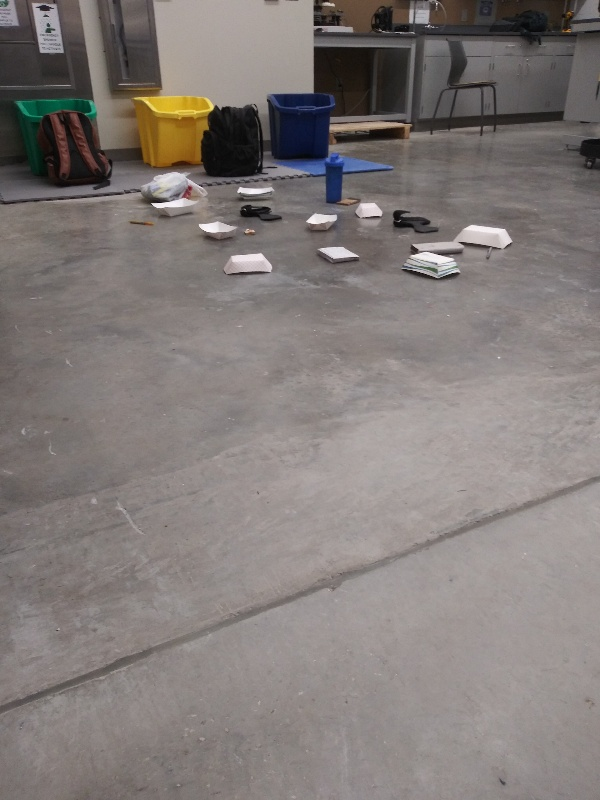plate: (451, 219, 517, 254), (398, 249, 463, 281), (220, 249, 277, 282), (148, 195, 204, 223), (195, 215, 242, 244), (230, 181, 277, 204), (301, 208, 341, 235), (353, 201, 386, 223)
